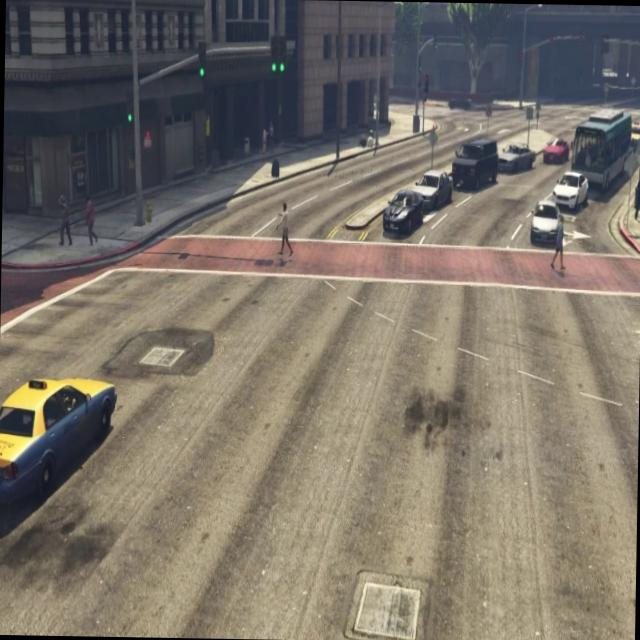Green-Signal: (262, 24, 294, 95), (191, 30, 213, 100), (118, 77, 138, 141)
